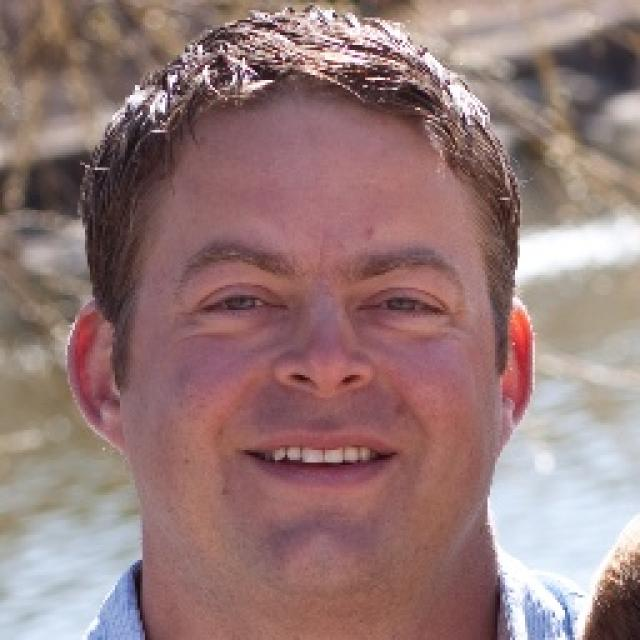earlobe: (91, 406, 134, 458), (495, 406, 522, 452)
eye: (200, 284, 276, 323), (364, 292, 449, 324)
nose: (278, 378, 369, 413)
wholeear: (68, 300, 132, 458), (496, 294, 536, 454)
